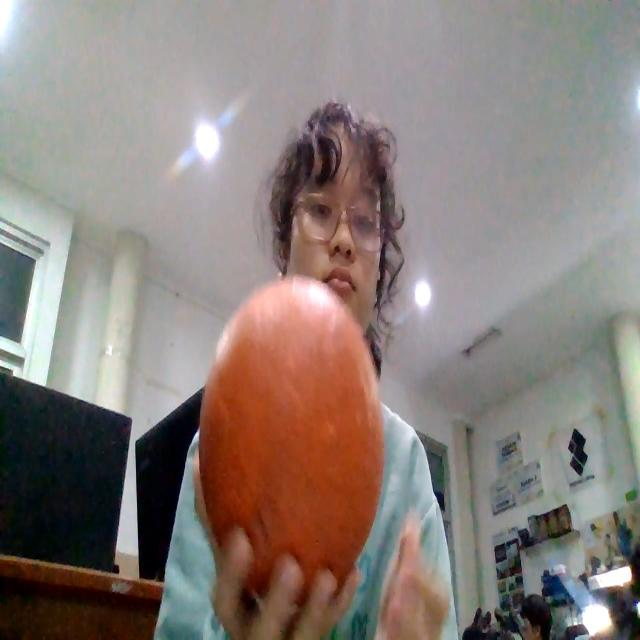ball: (198, 273, 385, 606)
